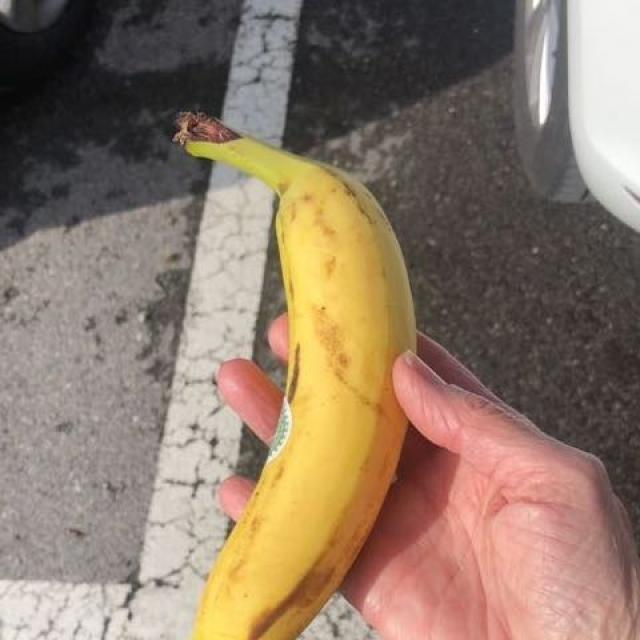banana: (191, 133, 411, 637)
